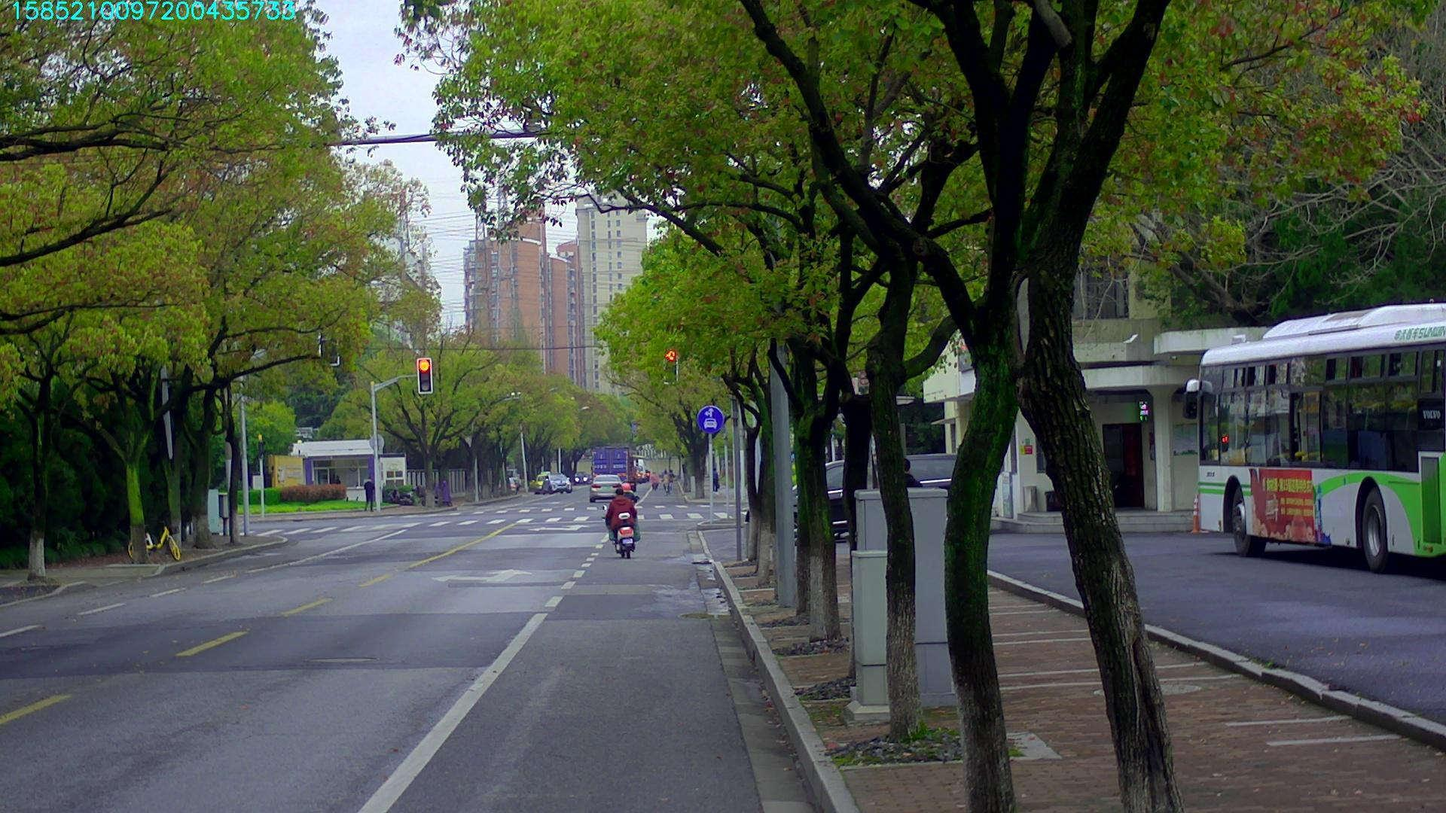red: (417, 358, 431, 392), (664, 350, 677, 383)
